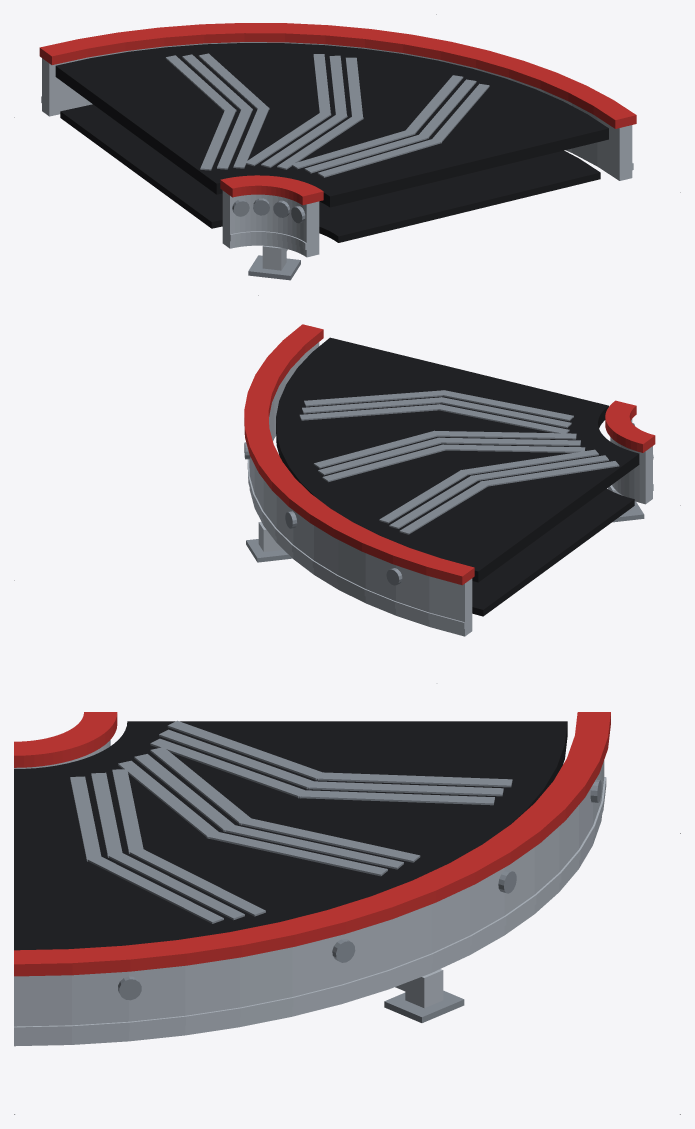
The model's file is convoyeur_virage_t3.glb.
The picture shows the model from 3 angles, top to bottom: view 1: azimuth 30°, elevation 25°; view 2: azimuth 150°, elevation 25°; view 3: azimuth 270°, elevation 25°; orthographic projection. The views are drawn at different scales.
Visible parts, largest first — view 1: bande_porteuse.024, bande_retour.024, bande_acier.042, rive_1.024, longeron_1.024, longeron_-1.024, rive_-1.024, pieces_acier.048, nervure_-1.012, pieces_gris_clair.016; view 2: bande_porteuse.024, bande_acier.042, longeron_1.024, rive_1.024, bande_retour.024, nervure_1.012, rive_-1.024, longeron_-1.024, pieces_acier.048; view 3: bande_porteuse.024, longeron_1.024, bande_acier.042, rive_1.024, nervure_1.012, rive_-1.024, pieces_acier.048, pieces_gris_clair.016.
Boxes of the visible parts, bbox=[...] form: bande_porteuse.024: bbox=[55, 43, 608, 207]; bande_retour.024: bbox=[60, 104, 600, 242]; bande_acier.042: bbox=[165, 53, 489, 177]; rive_1.024: bbox=[39, 23, 636, 128]; longeron_1.024: bbox=[42, 42, 632, 180]; longeron_-1.024: bbox=[222, 190, 319, 257]; rive_-1.024: bbox=[220, 175, 323, 205]; pieces_acier.048: bbox=[232, 198, 305, 280]; nervure_-1.012: bbox=[230, 231, 307, 249]; pieces_gris_clair.016: bbox=[262, 245, 287, 270]; bande_porteuse.024: bbox=[276, 337, 639, 582]; bande_acier.042: bbox=[299, 390, 619, 534]; longeron_1.024: bbox=[249, 342, 472, 636]; rive_1.024: bbox=[244, 324, 474, 585]; bande_retour.024: bbox=[472, 488, 634, 616]; nervure_1.012: bbox=[247, 459, 465, 629]; rive_-1.024: bbox=[605, 400, 655, 452]; longeron_-1.024: bbox=[610, 419, 652, 504]; pieces_acier.048: bbox=[244, 423, 653, 585]; bande_porteuse.024: bbox=[14, 721, 567, 950]; longeron_1.024: bbox=[14, 760, 604, 1046]; bande_acier.042: bbox=[70, 720, 512, 923]; rive_1.024: bbox=[14, 712, 610, 976]; nervure_1.012: bbox=[14, 777, 606, 1036]; rive_-1.024: bbox=[14, 712, 117, 767]; pieces_acier.048: bbox=[118, 779, 601, 1022]; pieces_gris_clair.016: bbox=[395, 969, 443, 1008].
Size of the model in its own units: 1 by 0.2 by 1.
